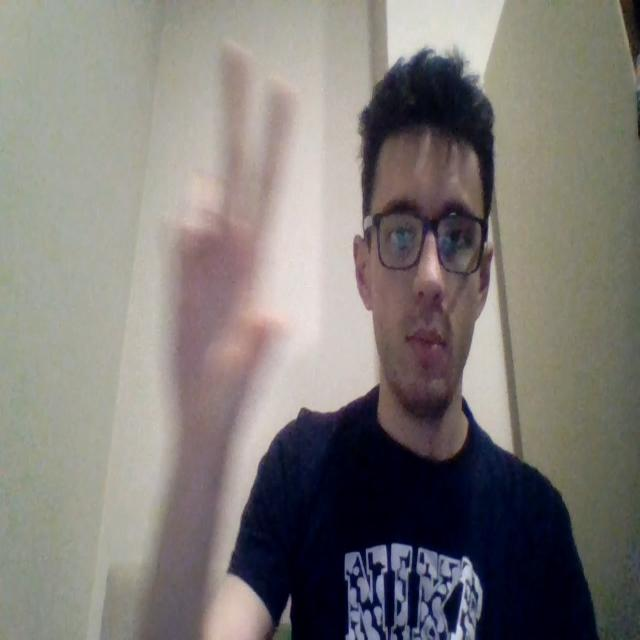no: (148, 36, 298, 463)
